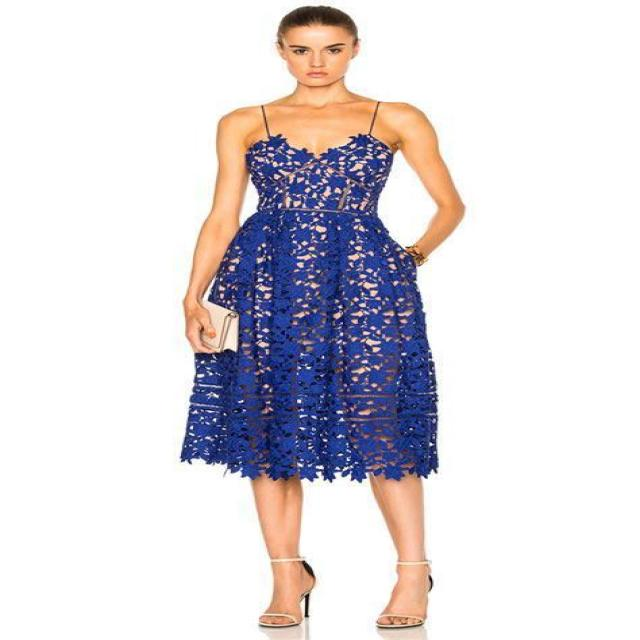dress: (182, 100, 438, 482)
